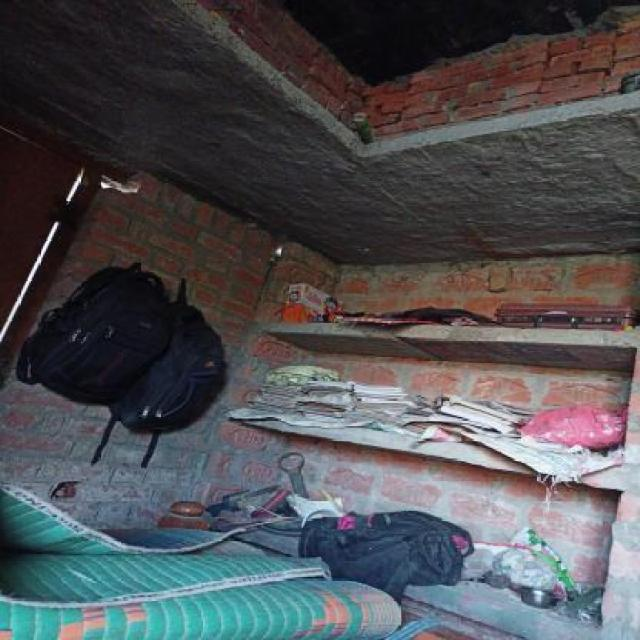backpack: (23, 263, 175, 411), (112, 280, 228, 434)
